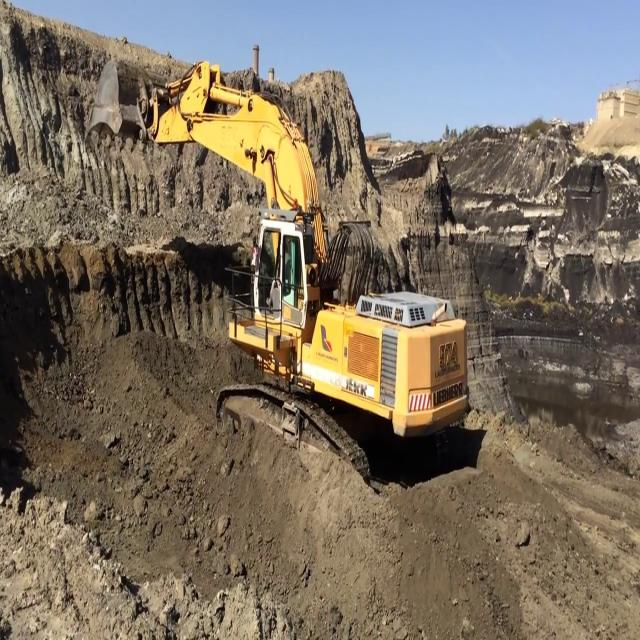excavator: (78, 55, 486, 484)
